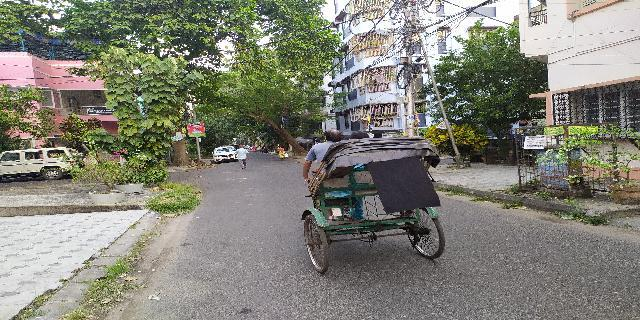Car: (2, 147, 82, 180), (207, 140, 240, 165)
Rickshaw: (286, 125, 449, 272)
